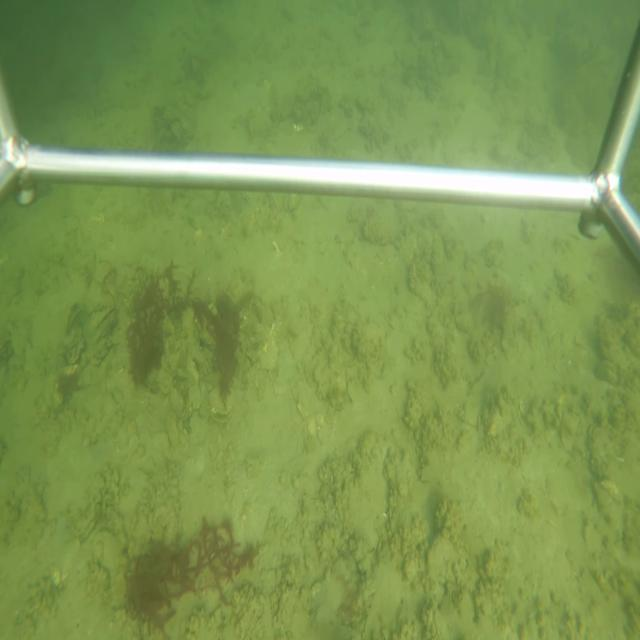Oyster-Open: (206, 385, 236, 428), (63, 299, 90, 340)
